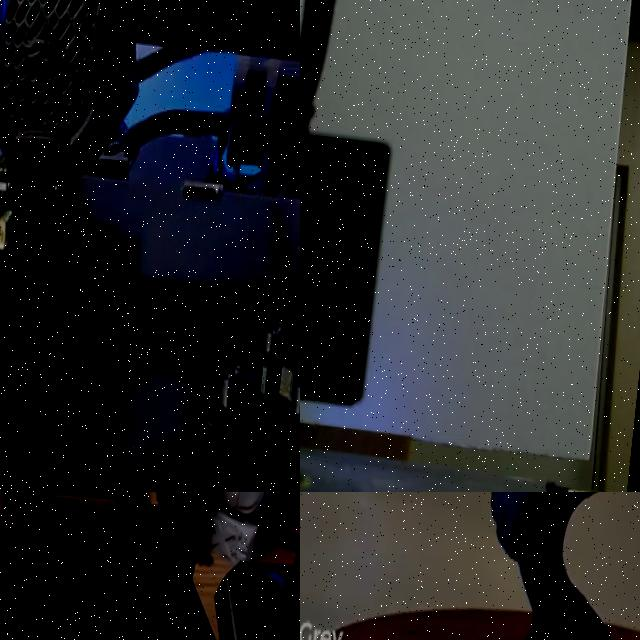spaghetti: (100, 492, 155, 536), (0, 498, 8, 520)
